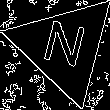N_S: (38, 18, 90, 76)
